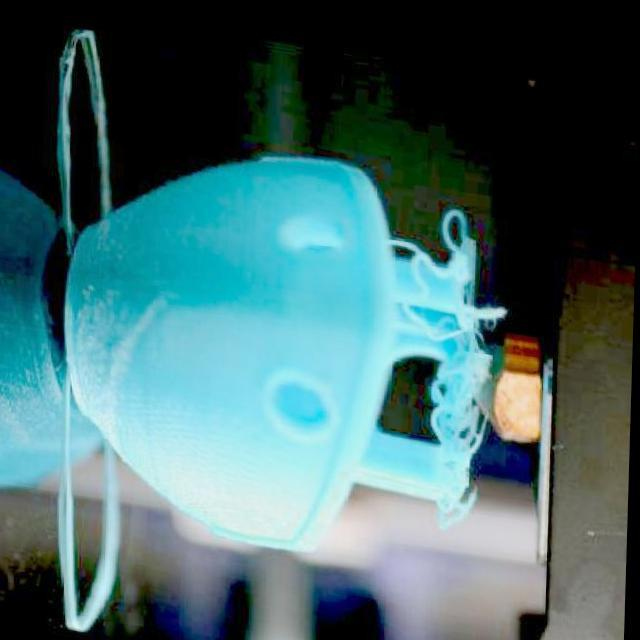spaghetti: (386, 183, 511, 520)
